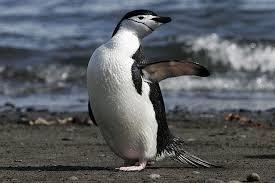chinstrap: (75, 2, 219, 177)
